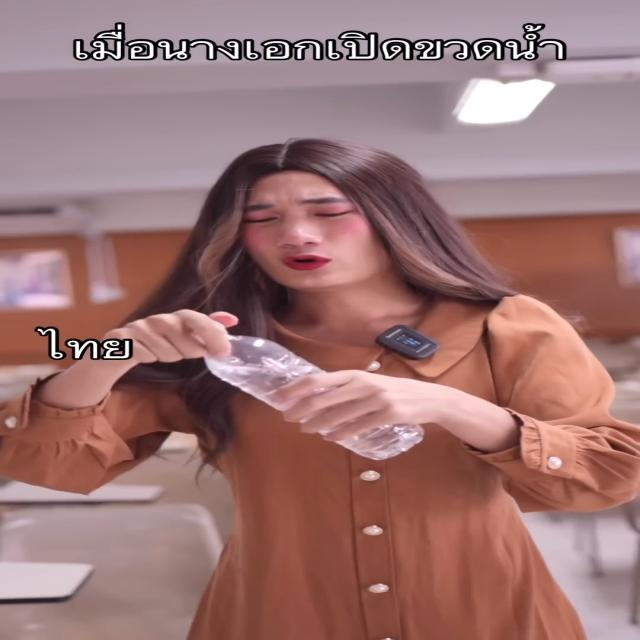bottle: (196, 327, 428, 461)
